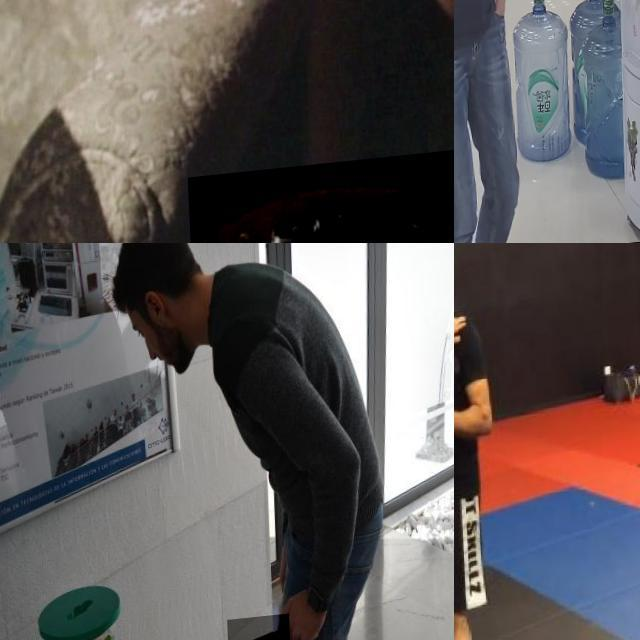-: (223, 621, 286, 640), (454, 523, 480, 560)
gun-knife-thesis - v11 Yolov5 augmented: (184, 154, 454, 243), (454, 0, 470, 58)
